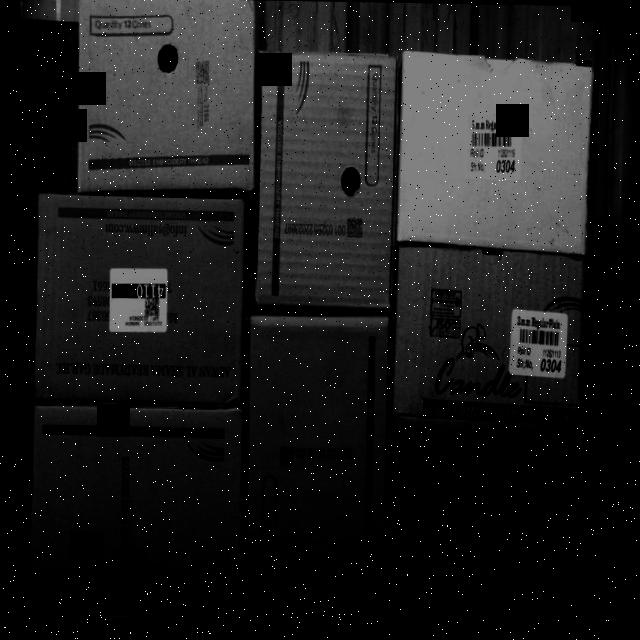box: (28, 406, 242, 630), (30, 193, 250, 404), (243, 317, 389, 627), (385, 430, 596, 640), (396, 43, 592, 253), (393, 240, 590, 443), (252, 46, 394, 314), (73, 0, 257, 194)
